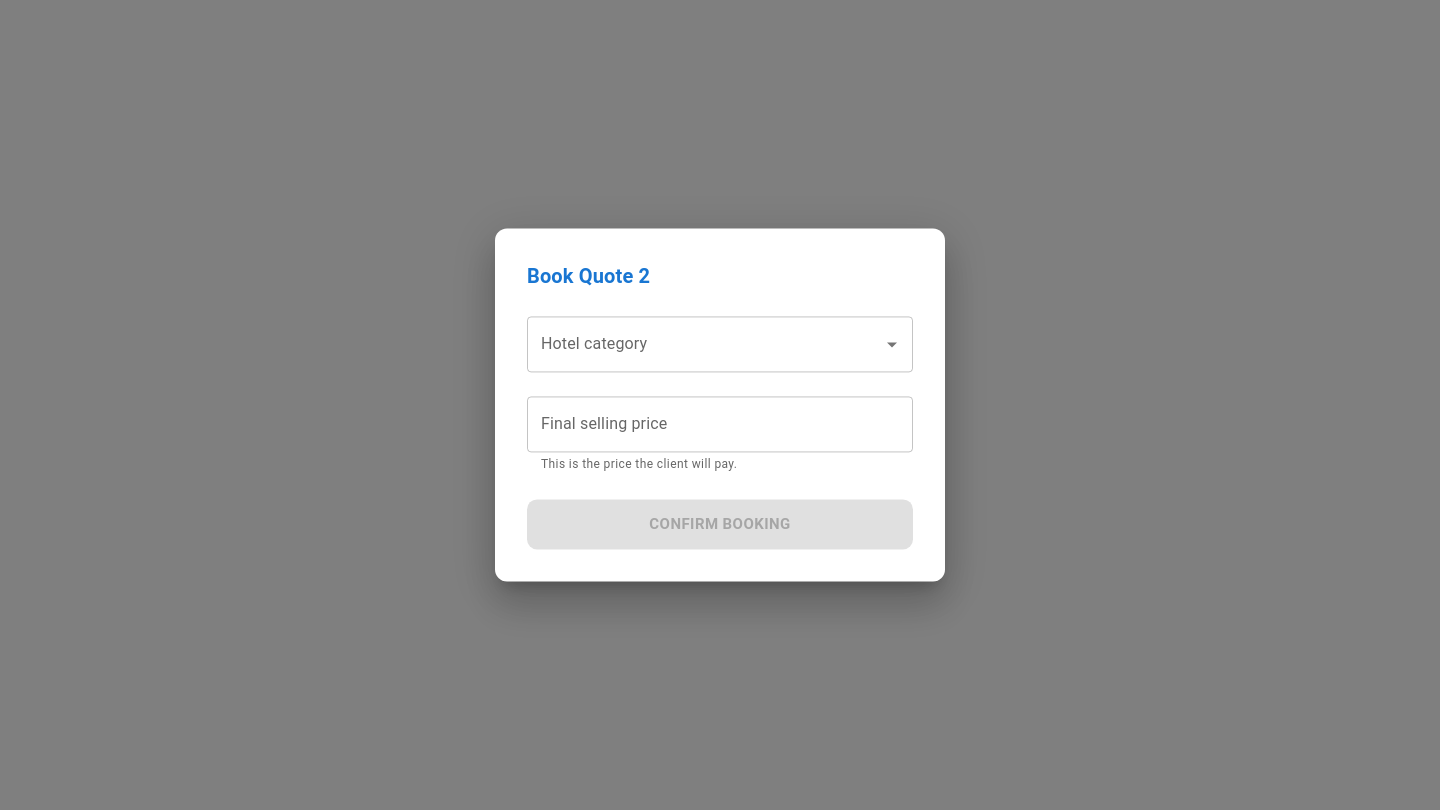
booking a quote › without the guests counted, the per-person price is used and the agent is told why
This screenshot has width=1440, height=810.
Press the mouse on the dropdown labelled "Hotel category" at coordinates (705, 344), box [536,325,874,363]
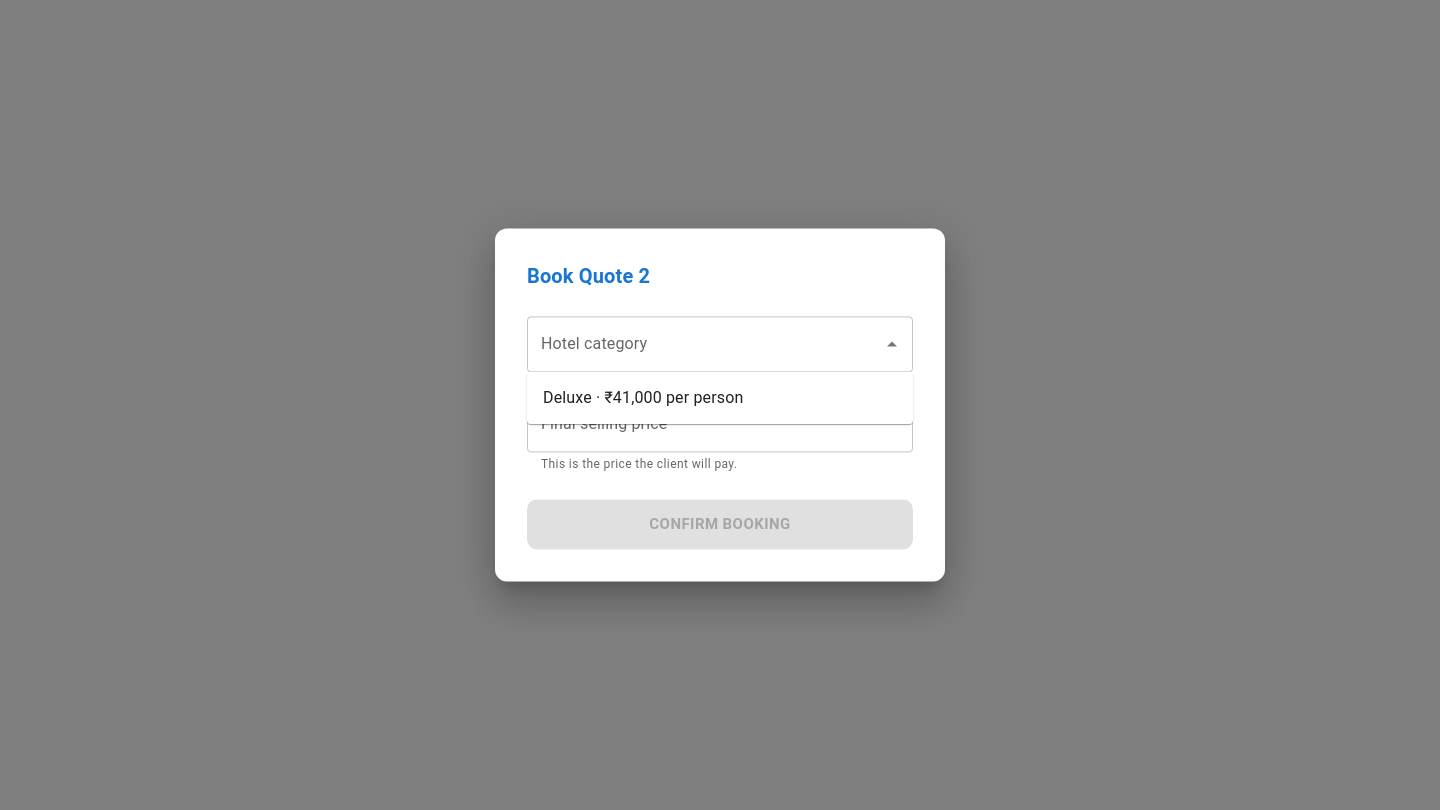
Click the option "Deluxe · ₹41,000 per person" at coordinates (643, 398), box [543,388,744,407]
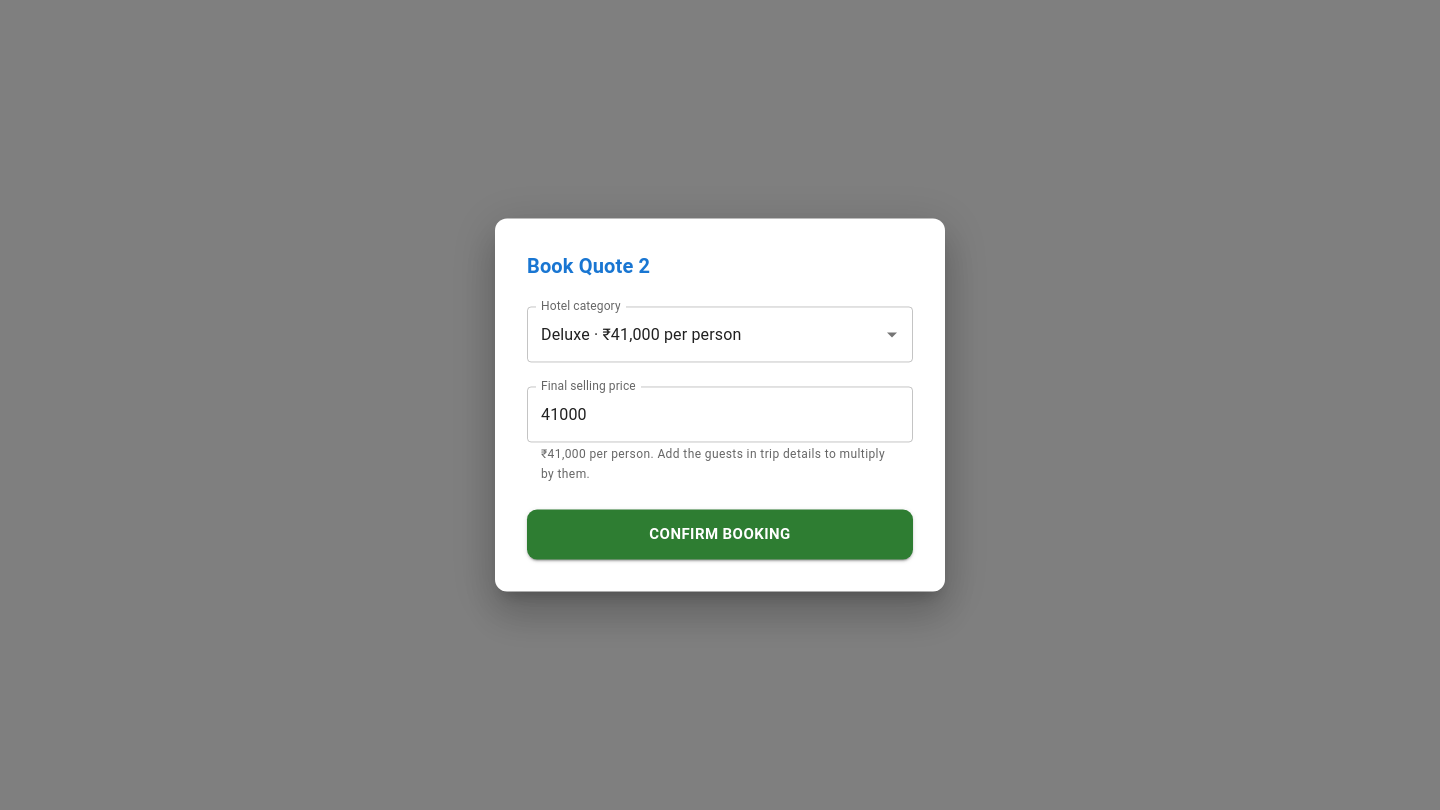
Expected: the number field labelled "Final selling price" holds "41000", [527,386,913,442]
Expected: the text "Add the guests in trip details to multiply by them" is shown, [541,448,885,481]
